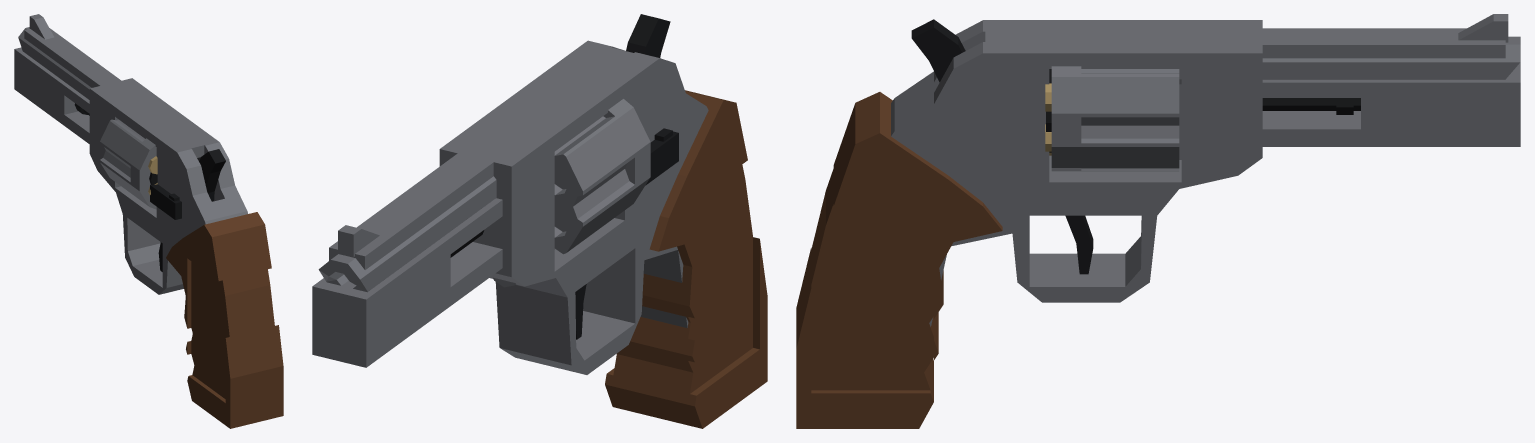
The model's file is Revolver.fbx.
3 renders of one model, left to right at view 1: azimuth 30°, elevation 25°; view 2: azimuth 150°, elevation 25°; view 3: azimuth 270°, elevation 25°, orthographic. The views are drawn at different scales.
Visible parts, largest first — view 1: Grip, Frame, Barrel, Cylinder, Hammer, CylinderLatch; view 2: Frame, Grip, Barrel, Cylinder, Hammer, CylinderLatch; view 3: Frame, Grip, Barrel, Cylinder, Hammer, EjectorRod, Trigger.
Part boxes in pixels (x1,y1,x2,y2): Grip: (166, 212, 283, 428); Frame: (89, 78, 247, 294); Barrel: (14, 14, 122, 143); Cylinder: (100, 119, 156, 209); Hammer: (197, 149, 225, 201); CylinderLatch: (150, 184, 181, 219); Frame: (439, 40, 708, 374); Grip: (605, 90, 767, 428); Barrel: (312, 151, 502, 367); Cylinder: (554, 99, 650, 254); Hammer: (626, 14, 670, 57); CylinderLatch: (645, 128, 678, 185); Frame: (891, 20, 1262, 326); Grip: (796, 92, 1002, 428); Barrel: (1179, 14, 1520, 146); Cylinder: (1051, 66, 1179, 171); Hammer: (911, 19, 965, 82); EjectorRod: (1046, 69, 1360, 152); Trigger: (1065, 215, 1093, 274).
Size of the model in its own units: 28.01 by 87.8 by 148.
